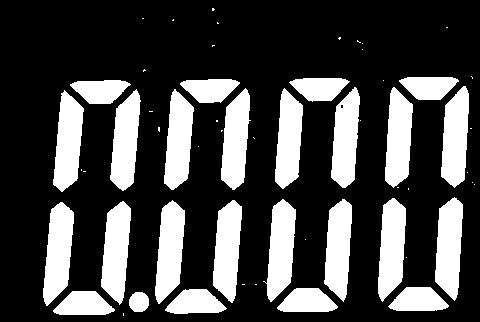0: (39, 77, 142, 317), (263, 77, 361, 315), (375, 76, 470, 313), (158, 77, 252, 313)
dot: (127, 288, 151, 317)
